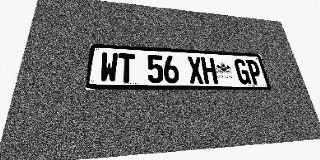5: (147, 54, 164, 83)
6: (163, 55, 180, 83)
G: (233, 59, 252, 84)
H: (201, 57, 218, 84)
P: (245, 59, 264, 84)
T: (118, 53, 135, 83)
W: (99, 52, 118, 83)
X: (187, 56, 204, 84)
